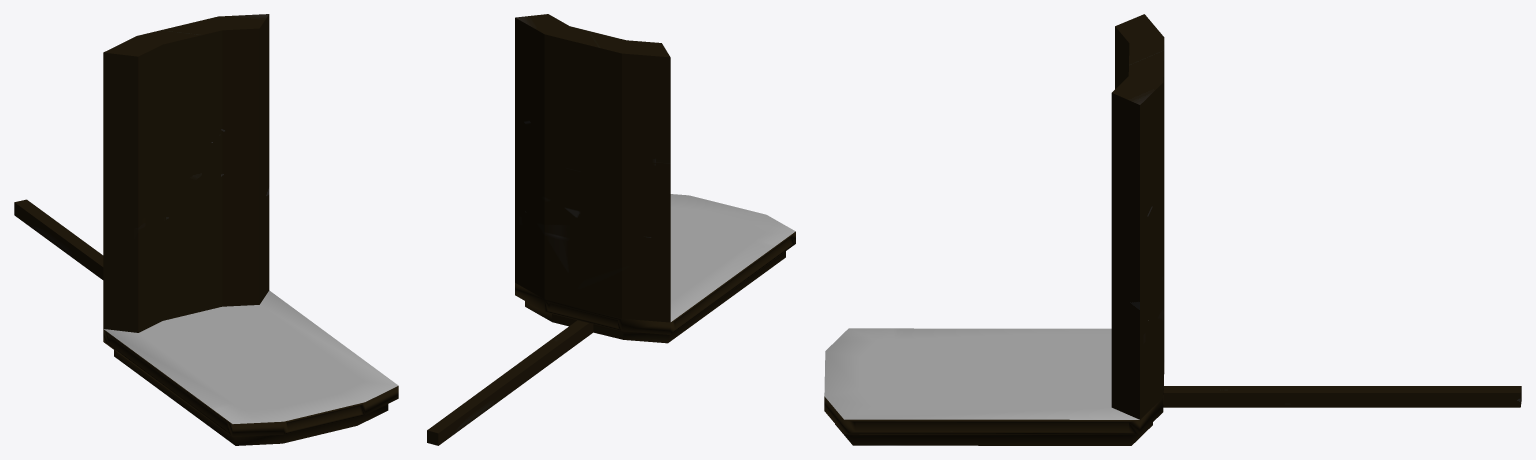
Rendered from Charging_Station.fbx.
The picture shows the model from 3 angles, left to right: view 1: azimuth 30°, elevation 25°; view 2: azimuth 150°, elevation 25°; view 3: azimuth 270°, elevation 25°; orthographic projection. The views are drawn at different scales.
Parts seen in each view (by area): view 1: polySurface58; view 2: polySurface58; view 3: polySurface58.
Boxes of the visible parts, left/top/right/bottom form: polySurface58: left=14, top=14, right=398, bottom=445; polySurface58: left=427, top=14, right=795, bottom=445; polySurface58: left=824, top=14, right=1521, bottom=445.
Size of the model in its own units: 377 by 663 by 1216.
Materials: 1 (1 with a texture image).
